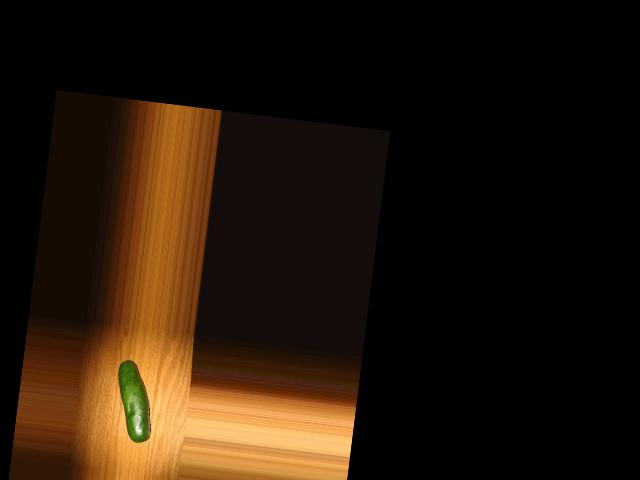cucumber: (110, 358, 159, 443)
